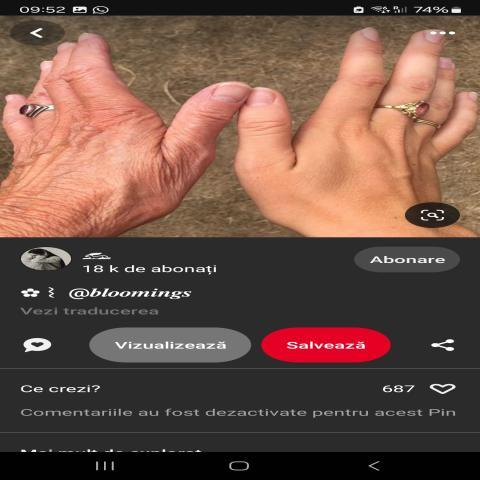Hands: (237, 14, 479, 236), (4, 23, 245, 227)
